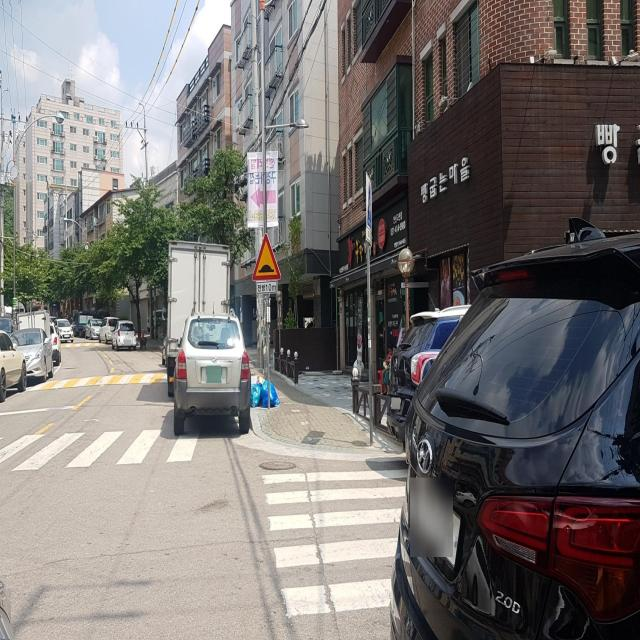횡단보도: (259, 467, 412, 622), (0, 420, 206, 478)
